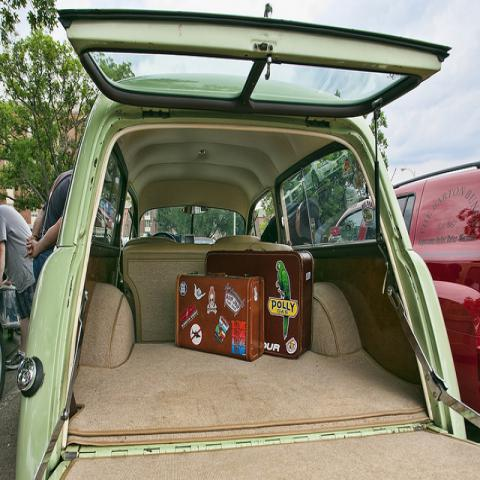car: (11, 5, 479, 476)
truck: (327, 160, 479, 416)
